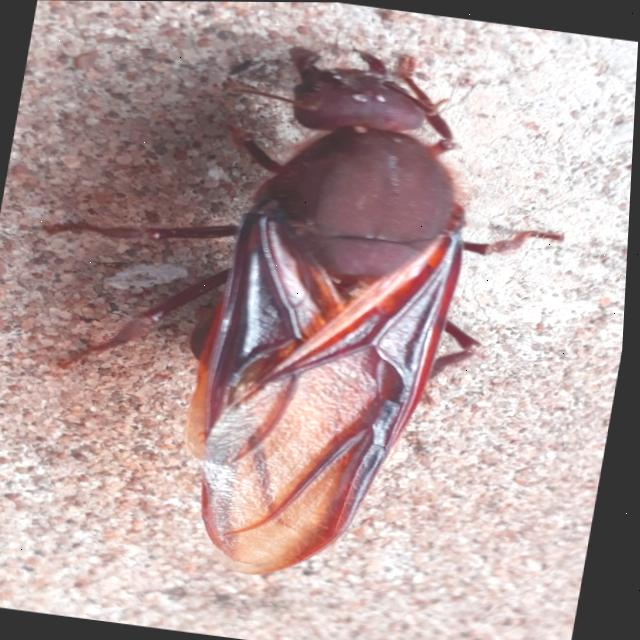Alive-Female-Alate: (0, 5, 594, 605)
